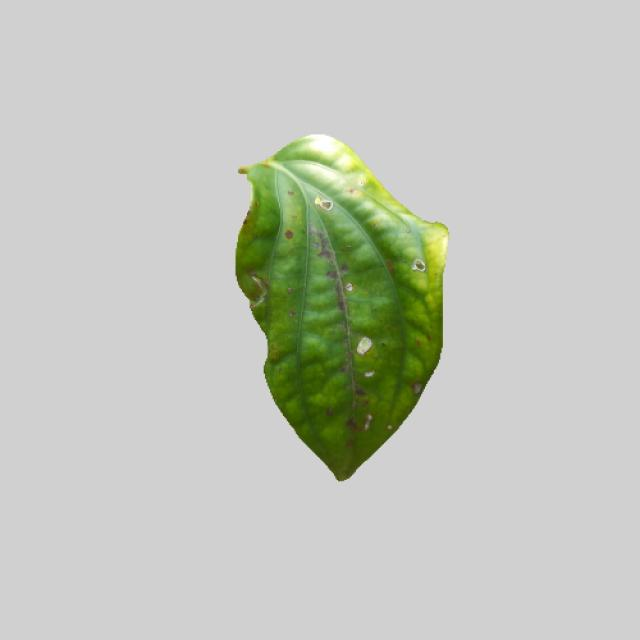yellow-mottle-virus: (232, 133, 446, 475)
